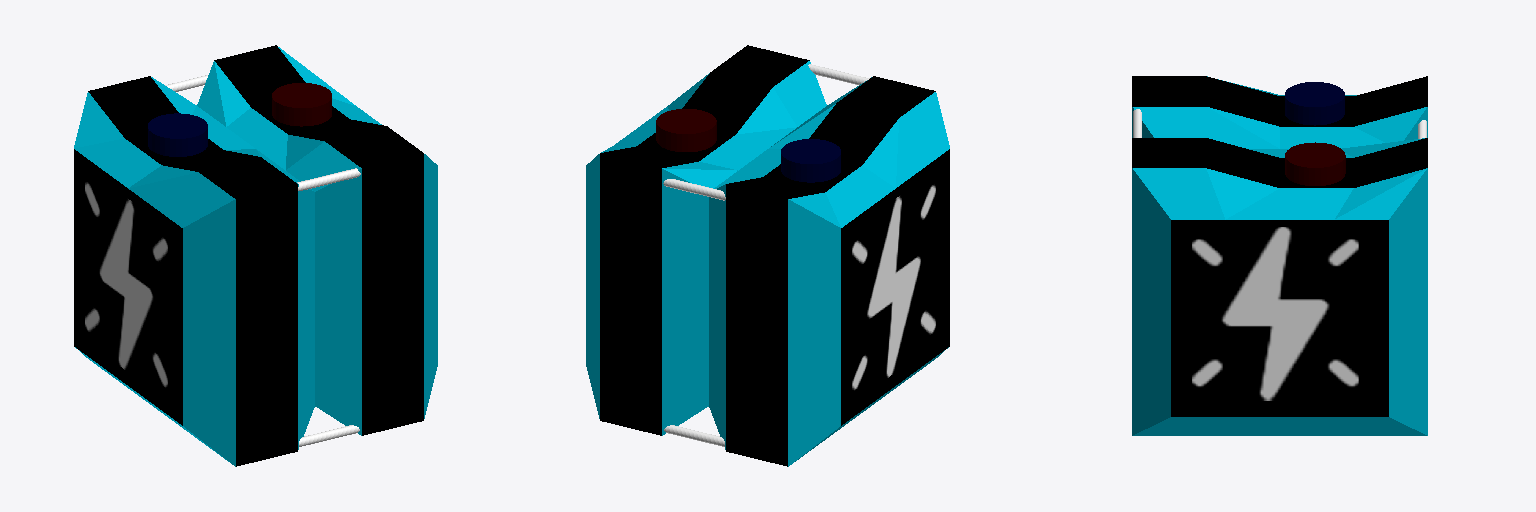
The picture shows the model from 3 angles: view 1: azimuth 30°, elevation 25°; view 2: azimuth 150°, elevation 25°; view 3: azimuth 270°, elevation 25°; orthographic projection.
Visible parts, largest first — view 1: Cube, Цилиндр.001, Цилиндр, Цилиндр.005; view 2: Cube, Цилиндр, Цилиндр.001, Цилиндр.005; view 3: Cube, Цилиндр, Цилиндр.001.
Boxes of the visible parts, box(x1,y1,x2,y2) form: Cube: box(74, 45, 437, 466); Цилиндр.001: box(148, 113, 207, 156); Цилиндр: box(272, 83, 331, 126); Цилиндр.005: box(165, 75, 360, 446); Cube: box(586, 45, 949, 466); Цилиндр: box(656, 109, 716, 151); Цилиндр.001: box(781, 139, 840, 182); Цилиндр.005: box(663, 64, 869, 446); Cube: box(1132, 76, 1427, 435); Цилиндр: box(1285, 142, 1345, 185); Цилиндр.001: box(1285, 82, 1344, 125).
Bounding box in the file's own units: 1 × 1 × 1.
Materials: 4 (1 with a texture image).